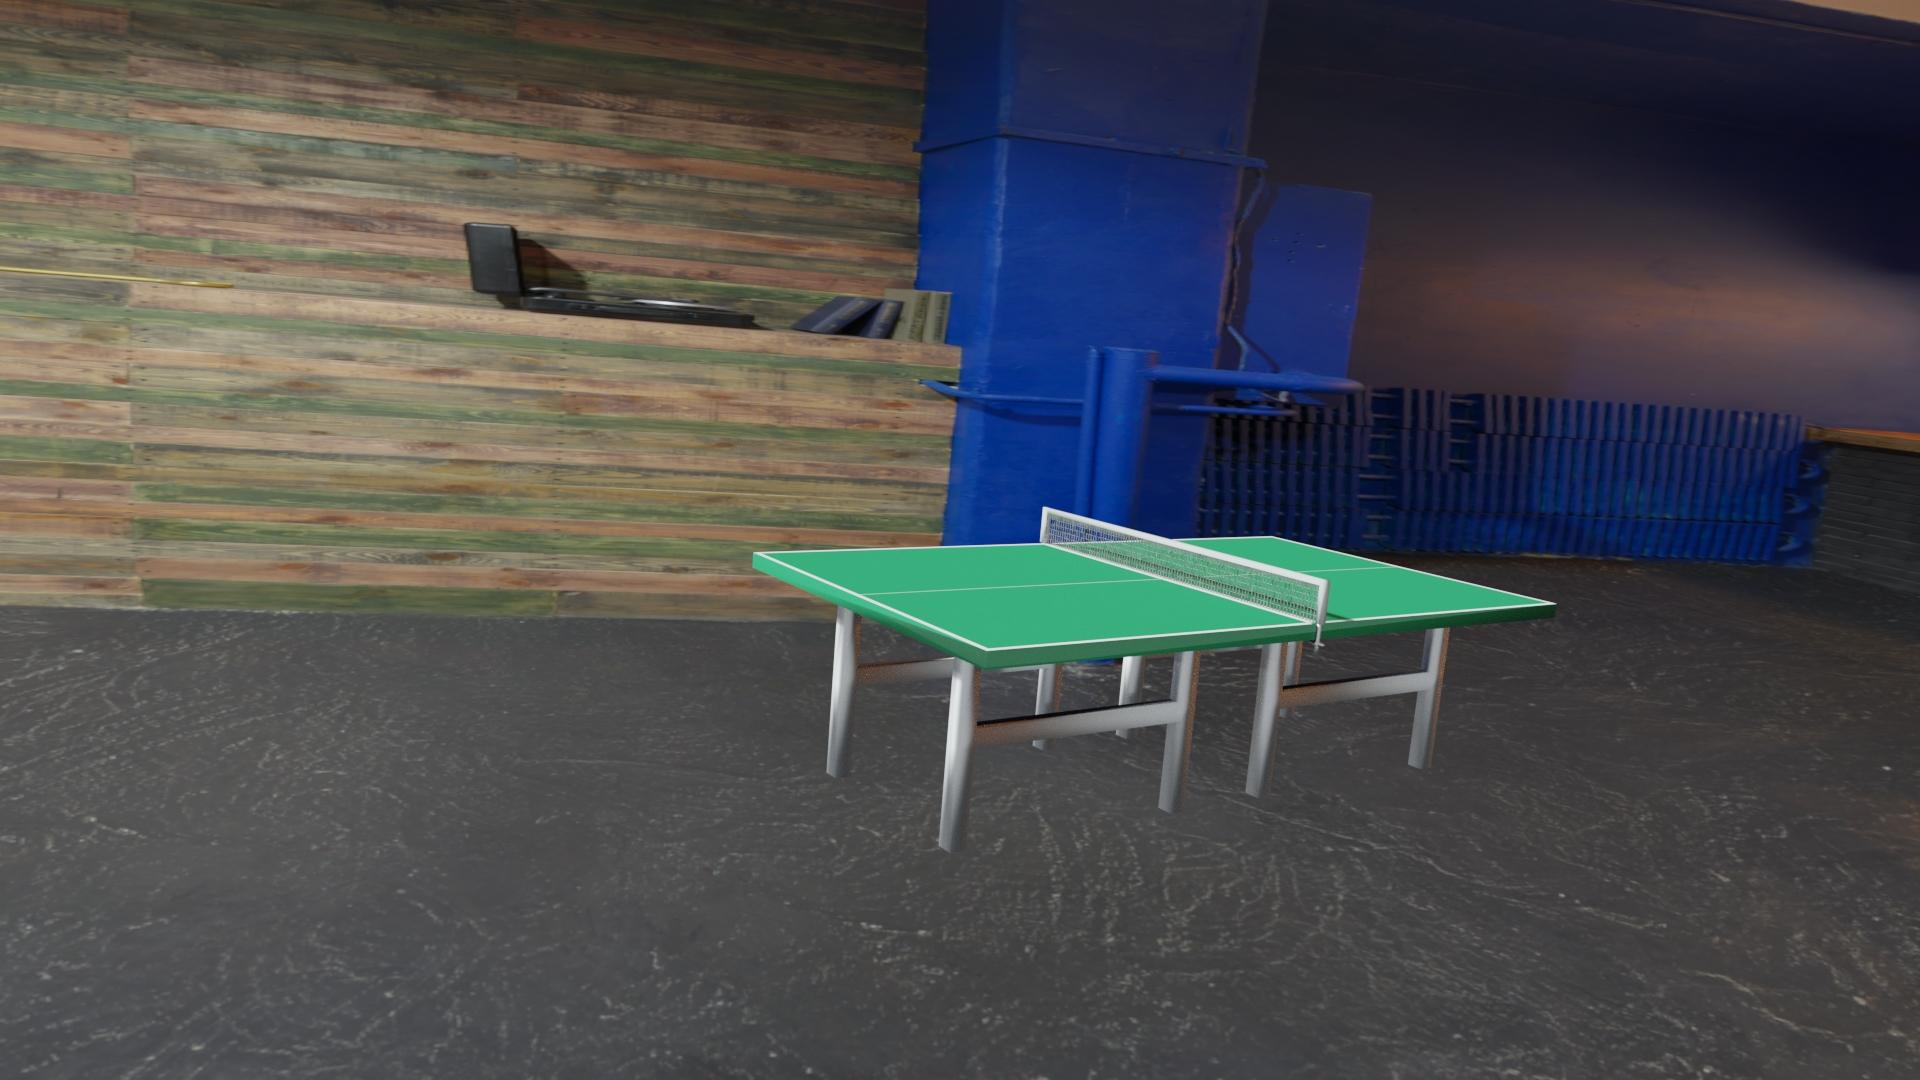table: (761, 537, 1549, 649)
